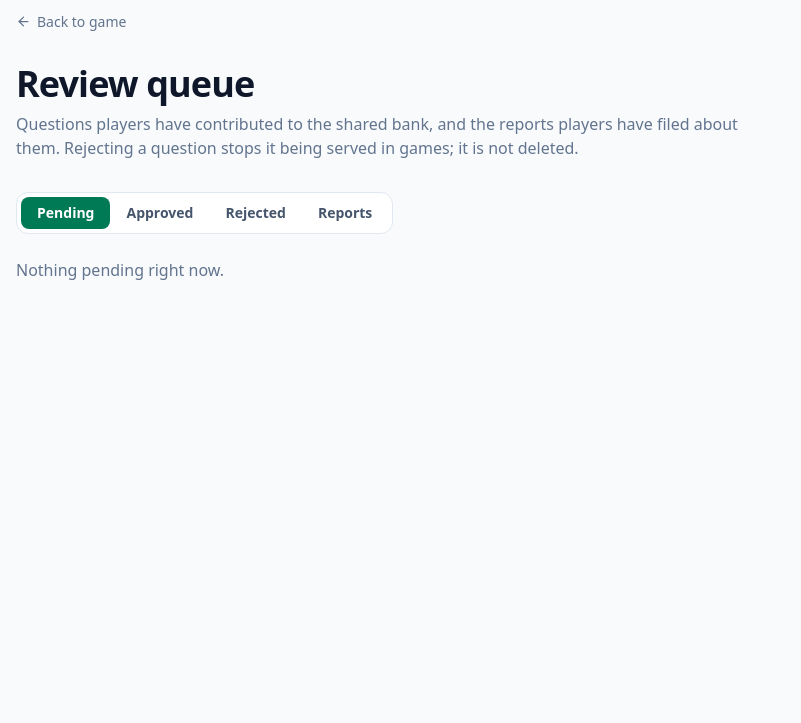
ReviewQueueComponent reports tab, rendered › shows the complaint without identifying who filed it
Click the radio button with test id "review-tab" showing "Reports" at (345, 212), box top-left (302, 196), bottom-right (388, 228)
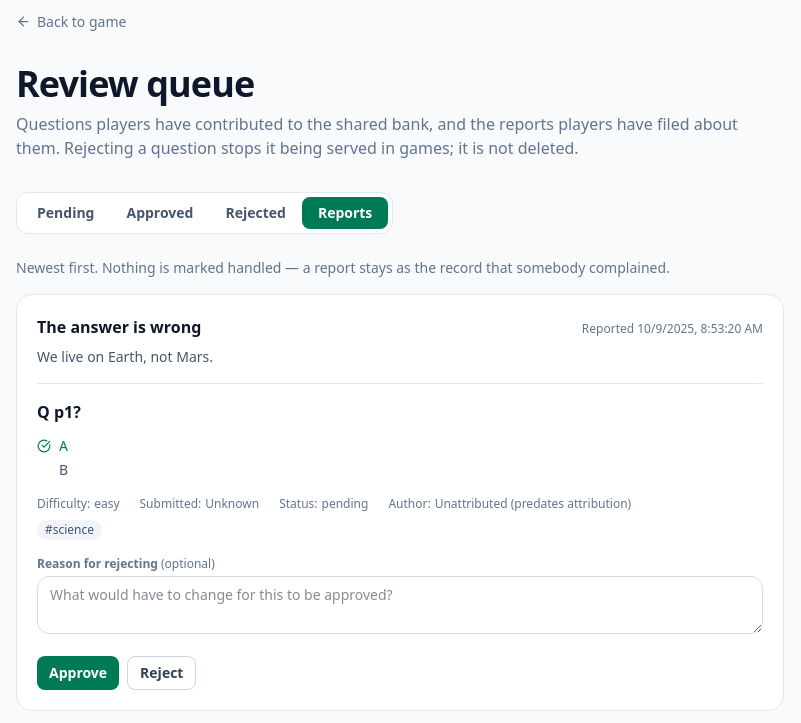
Expected: the list item with test id "review-report" shows "The answer is wrong", top-left (37, 316), bottom-right (201, 338)
Expected: the list item with test id "review-report" shows "We live on Earth, not Mars.", top-left (37, 346), bottom-right (213, 366)
Expected: the list item with test id "review-report" shows "Q p1?", top-left (37, 400), bottom-right (81, 422)
